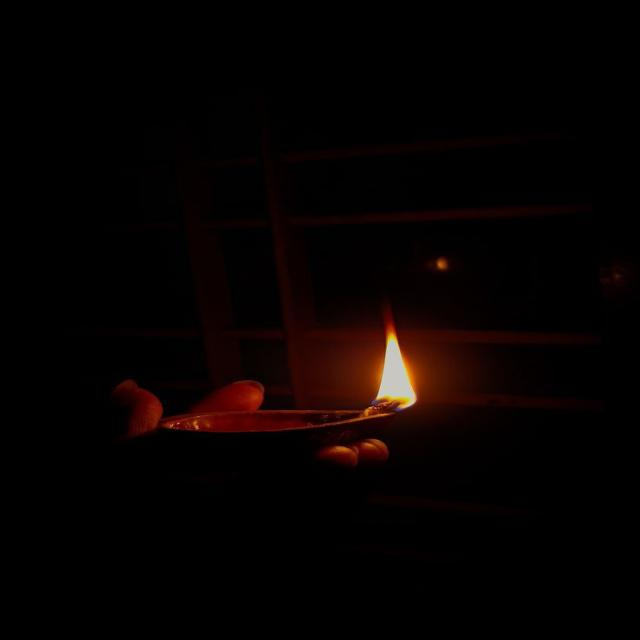fire: (371, 309, 417, 412)
